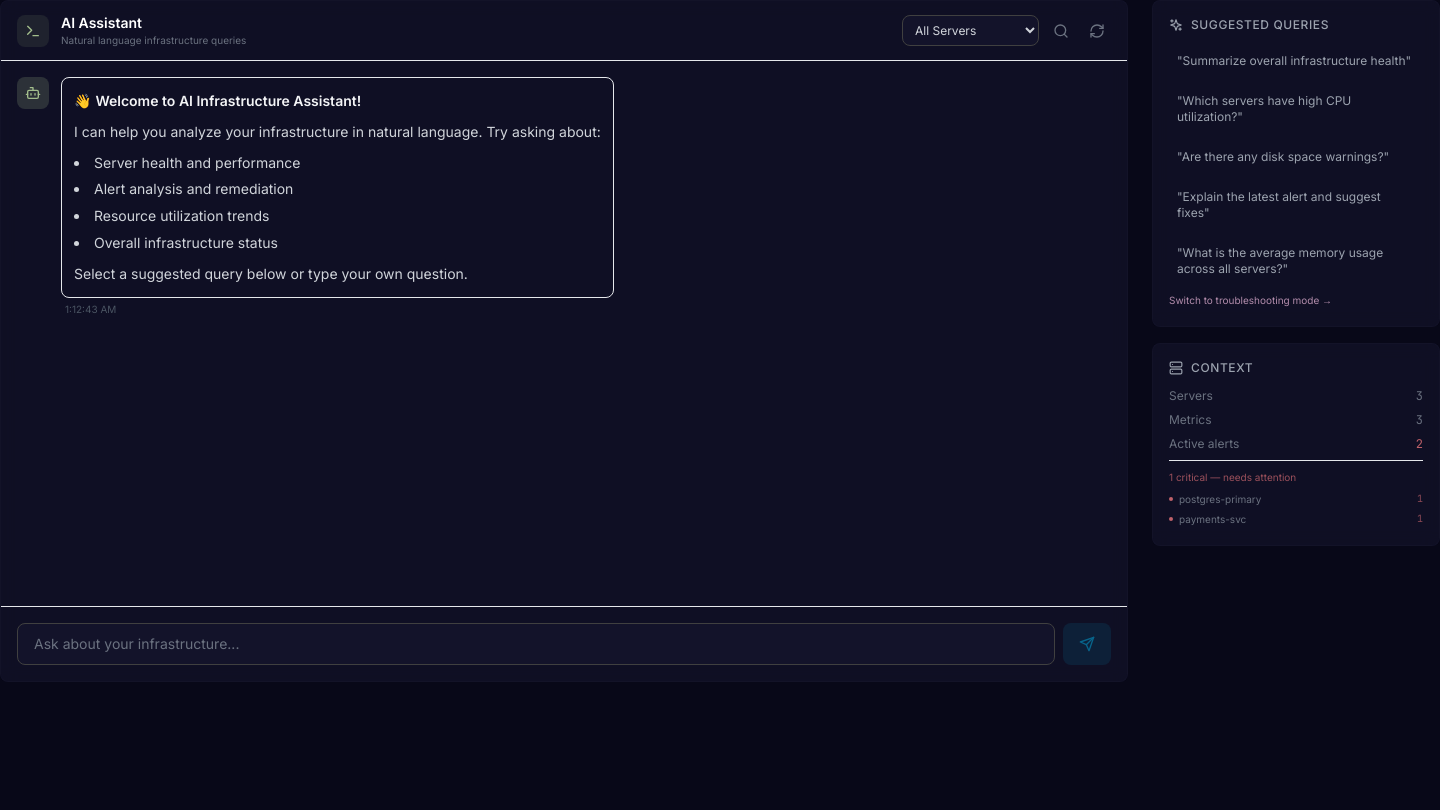
Test: AIChat › sends health summary when refresh button is clicked
Step 1. Click the button titled "Refresh context" → (1097, 30), box [1083,16,1111,44]
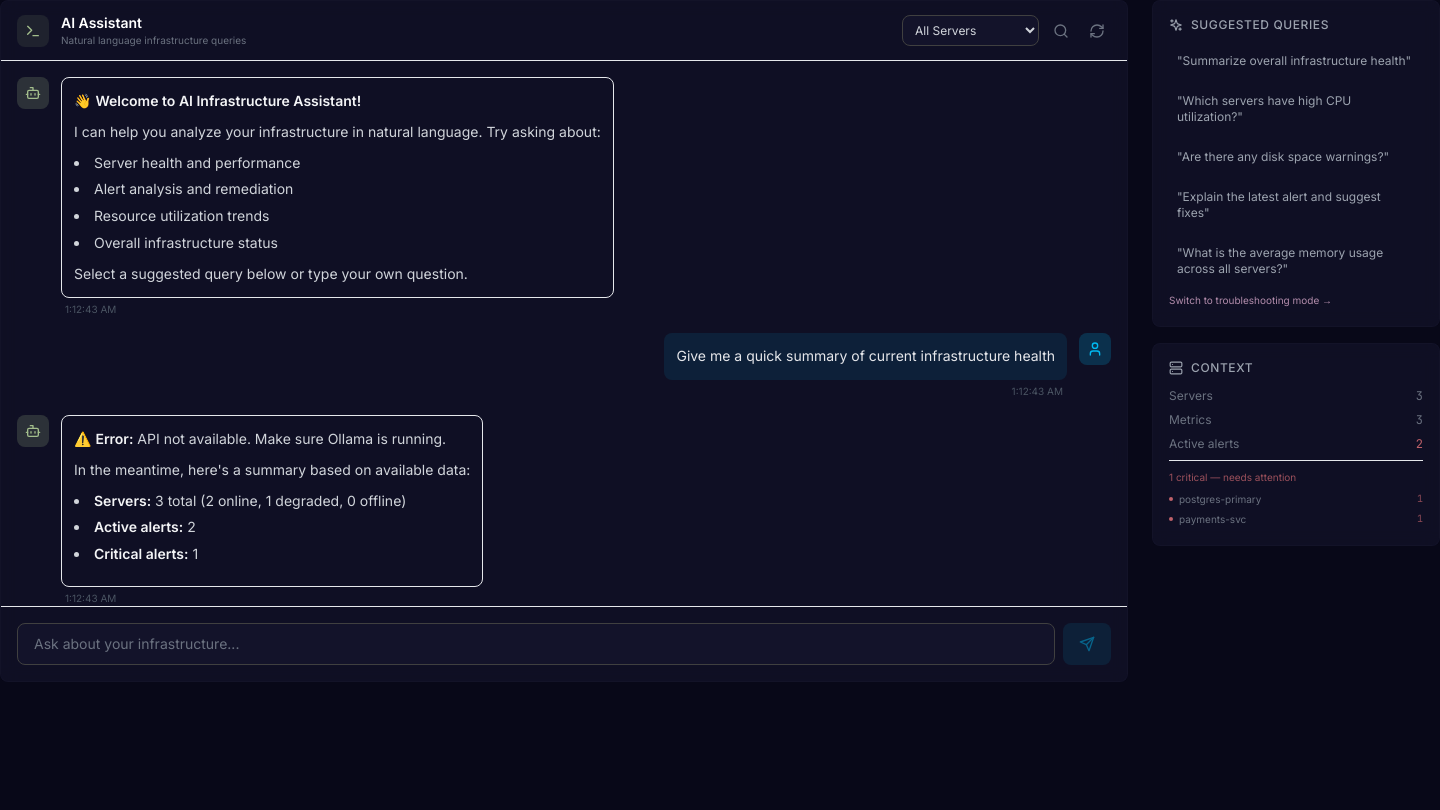
expect the text "Give me a quick summary of current infrastructure health" is shown: met, box [676,345,1055,368]
